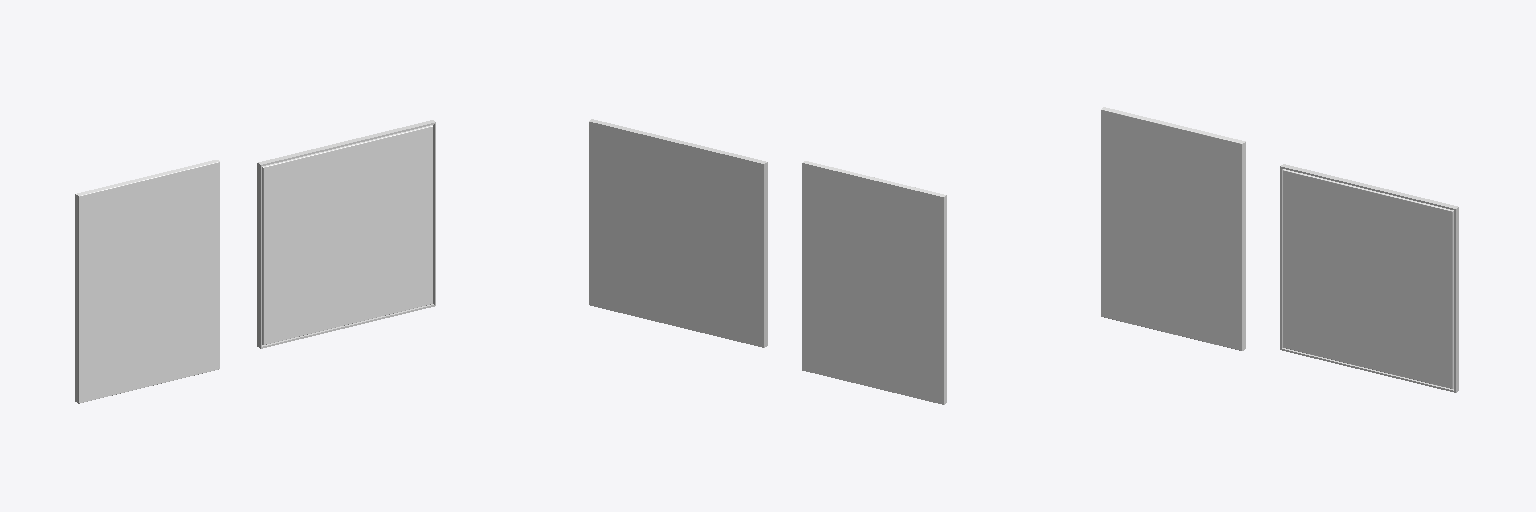
File: quadrop.obj
3 renders of one model, left to right at view 1: azimuth 30°, elevation 25°; view 2: azimuth 150°, elevation 25°; view 3: azimuth 330°, elevation 25°, orthographic.
Visible parts, largest first — view 1: Leinwand, Leinwand1, Rahmen, Leinwand3; view 2: Rahmen, Leinwand3; view 3: Leinwand, Leinwand1, Rahmen, Leinwand3.
Part boxes in pixels (left/top/right/bottom): Leinwand: left=263, top=126, right=432, bottom=344; Leinwand1: left=78, top=162, right=219, bottom=403; Rahmen: left=257, top=120, right=435, bottom=348; Leinwand3: left=75, top=160, right=219, bottom=402; Rahmen: left=589, top=119, right=767, bottom=347; Leinwand3: left=802, top=161, right=946, bottom=404; Leinwand: left=1283, top=170, right=1452, bottom=388; Leinwand1: left=1101, top=109, right=1242, bottom=350; Rahmen: left=1280, top=164, right=1458, bottom=392; Leinwand3: left=1102, top=107, right=1245, bottom=350.
Bounding box in the file's own units: 12.57 × 7 × 0.2914.